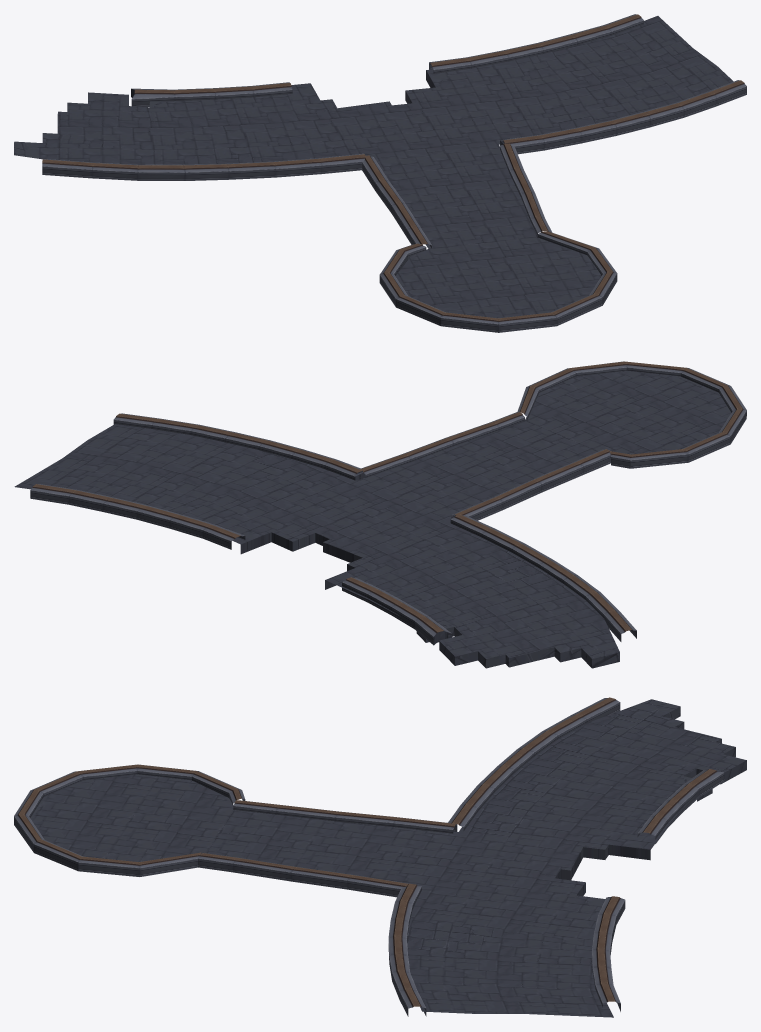
Rendered from yw_ziyuanpingtai_dibiao_002.FBX.
3 renders of one model, top to bottom at view 1: azimuth 30°, elevation 25°; view 2: azimuth 150°, elevation 25°; view 3: azimuth 270°, elevation 25°, orthographic. The views are drawn at different scales.
Parts seen in each view (by area): view 1: yw_ziyuanpingtai_dibiao_002; view 2: yw_ziyuanpingtai_dibiao_002; view 3: yw_ziyuanpingtai_dibiao_002.
Boxes of the visible parts, box(x1,y1,x2,y2) form: yw_ziyuanpingtai_dibiao_002: box(14, 14, 746, 332); yw_ziyuanpingtai_dibiao_002: box(14, 361, 746, 668); yw_ziyuanpingtai_dibiao_002: box(14, 697, 746, 1017).
Size of the model in its own units: 3781 by 91.23 by 3679.
